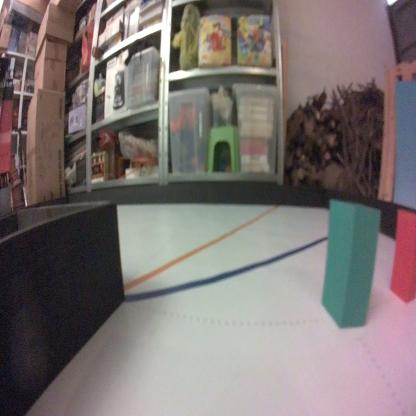green: (318, 197, 382, 333)
red: (386, 207, 416, 306)
